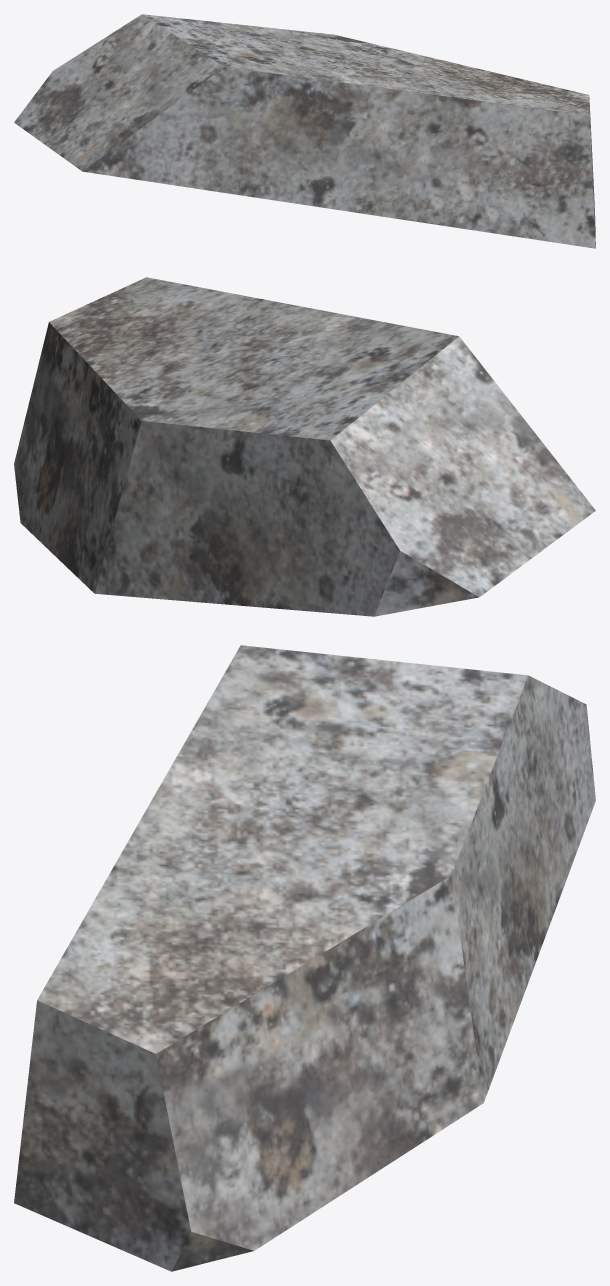
The model's file is Asteroid_Large_001_02_009_03_050.fbx.
3 views of the same model, one above another, from view 1: azimuth 30°, elevation 25°; view 2: azimuth 150°, elevation 25°; view 3: azimuth 270°, elevation 25° (orthographic). The views are drawn at different scales.
Visible parts, largest first — view 1: Asteroid_Large_001_02_009_03_050; view 2: Asteroid_Large_001_02_009_03_050; view 3: Asteroid_Large_001_02_009_03_050.
Part boxes in pixels (x1,y1,x2,y2): Asteroid_Large_001_02_009_03_050: [14, 14, 595, 248]; Asteroid_Large_001_02_009_03_050: [14, 277, 595, 616]; Asteroid_Large_001_02_009_03_050: [14, 645, 595, 1271].
Size of the model in its own units: 13.18 by 5.87 by 8.73.
